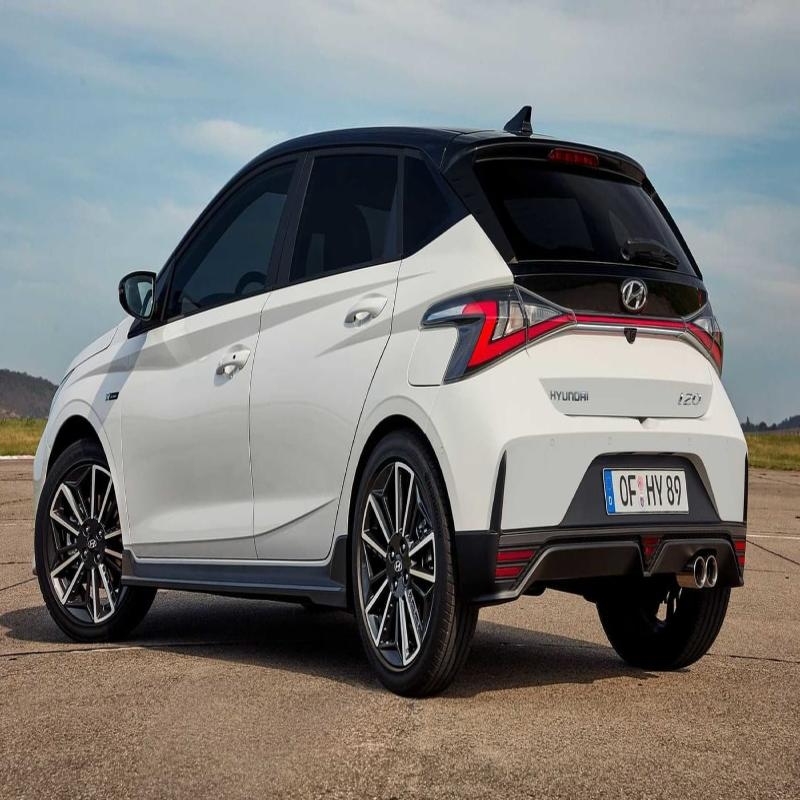car: (25, 92, 760, 688)
